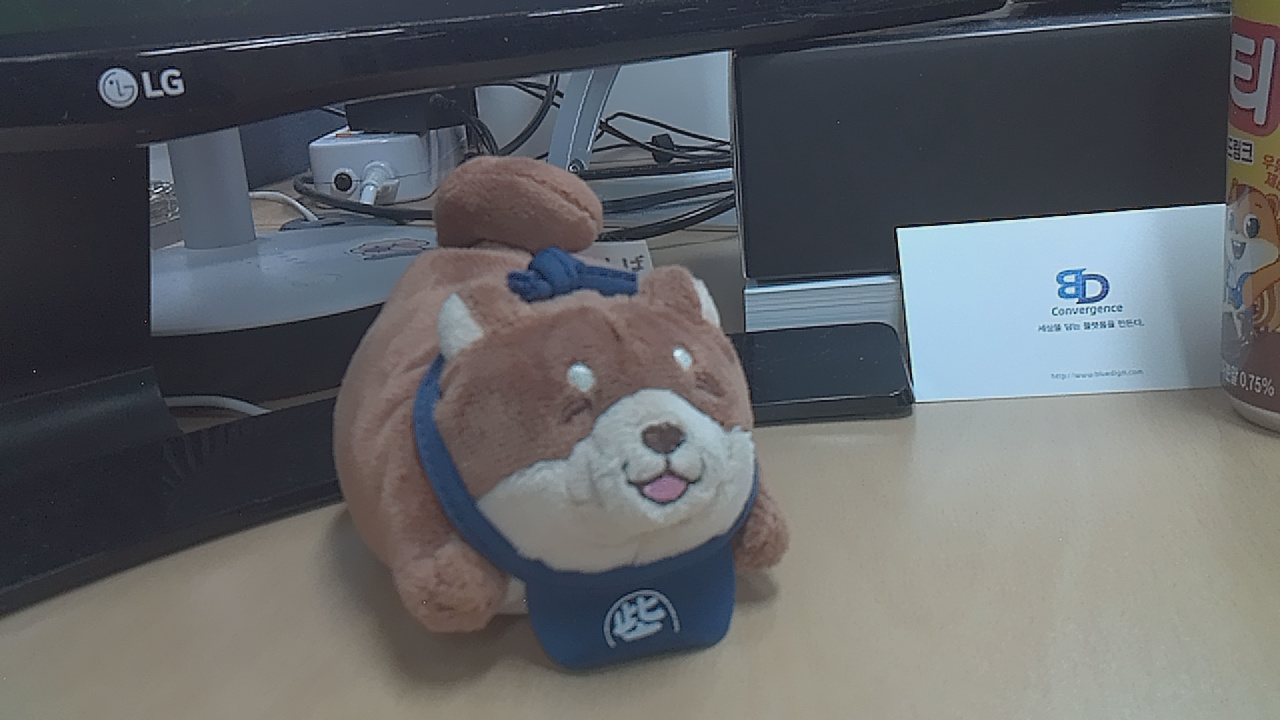BD: (989, 248, 1182, 357)
cuteDog: (293, 183, 838, 686)
